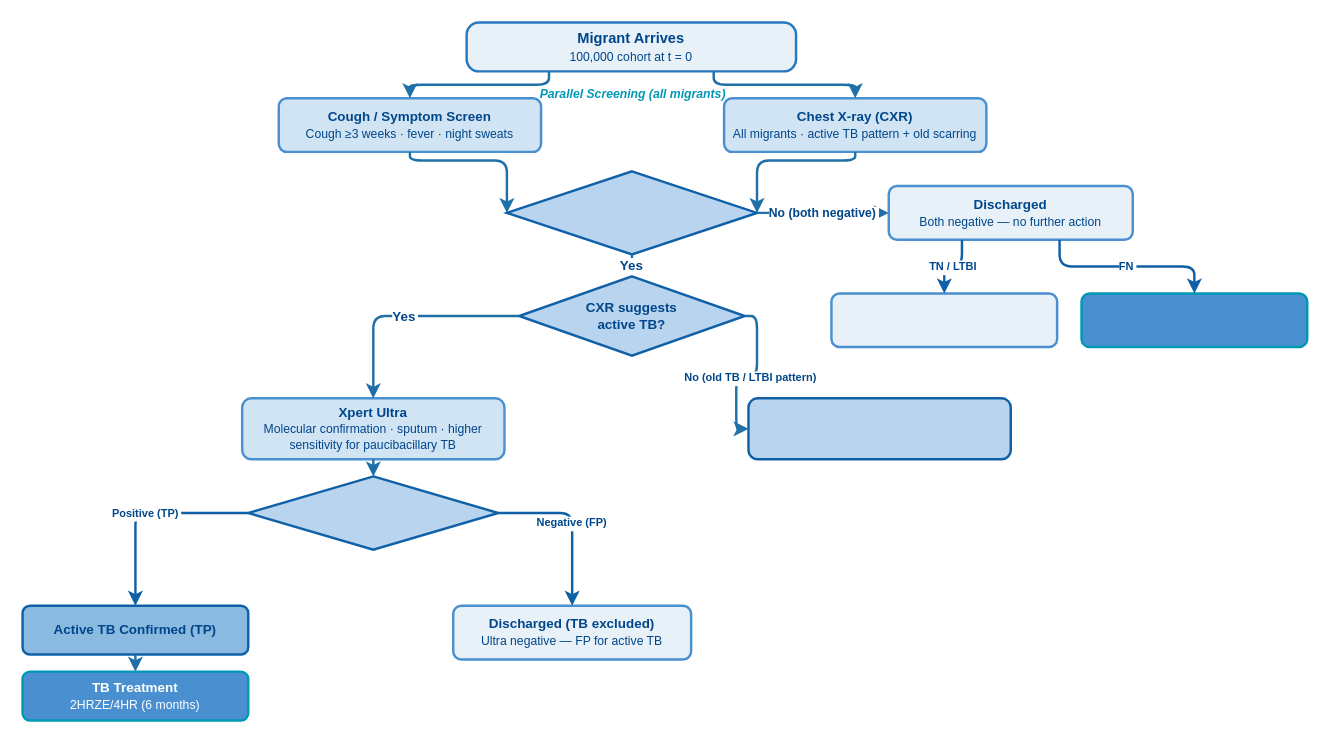
The diagram is 1329 pixels wide and 742 high, and some of its shapes have lost their labels. The centre of each missing label's shape, as x and y in pixels:
"CXR abnormal OR symptoms present?" goes at pixel 631 212.
"LTBI Assessment CXR old-TB scarring pattern · LTBI treatment offered" goes at pixel 879 428.
"Ultra positive?" goes at pixel 372 512.
"⚠️ False Negative (FN) Active TB missed · CXR + screen sensitivity <100%" goes at pixel 1194 320.
"✔ True Negative (TN) Uninfected · or LTBI undetected" goes at pixel 944 320.
